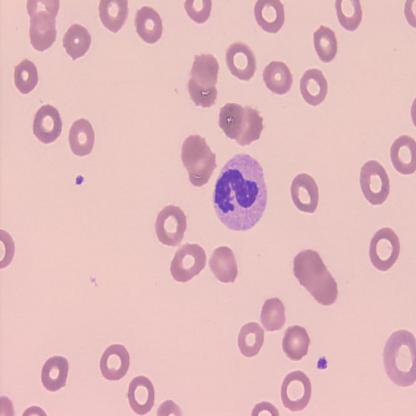Band Neutrophil: (211, 152, 269, 233)
